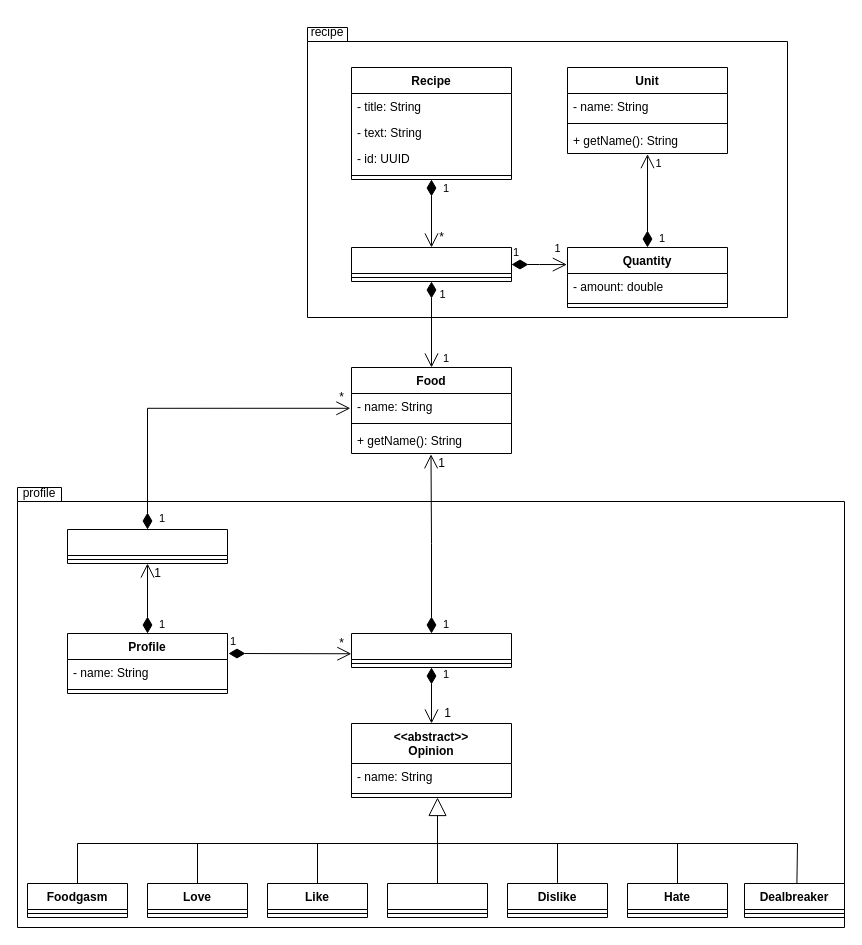
This 862x945 diagram has some shape labels left out. Here are the shapes that lost their labels. From the top down, the centre of each, then its label:
At (x=431, y=264): "Ingredient".
At (x=147, y=546): "Stock".
At (x=431, y=650): "OpinionAbout".
At (x=437, y=900): "Indifferent".
